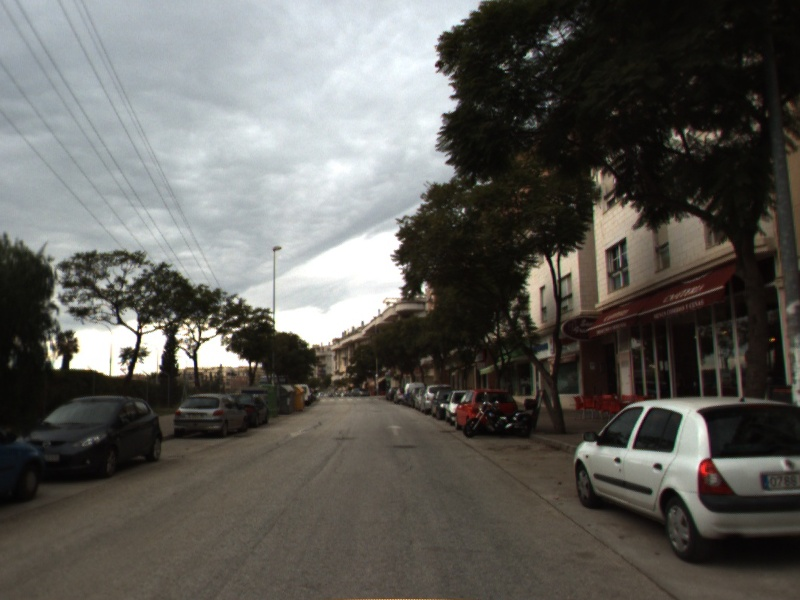STRAIGHT: (384, 423, 406, 438)
